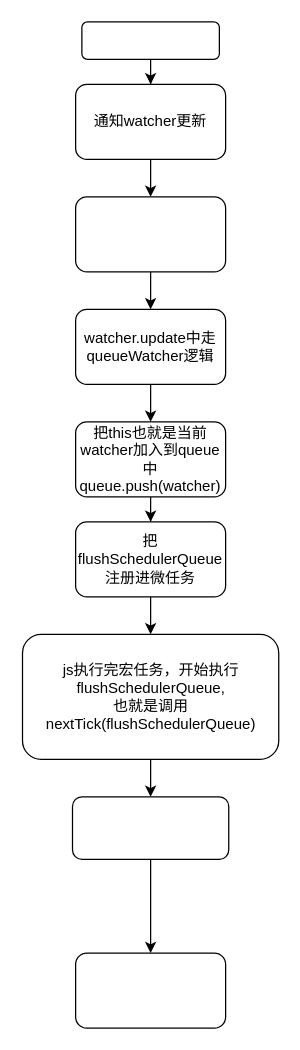
Image size: 300x1050. Some labels were removed from this diagram. Each missing label, with the centre of its shape:
数据变化: the point at 150,40
调用watcher.update: the point at 150,234
逐个调用watcher.run更新watcher: the point at 150,827
